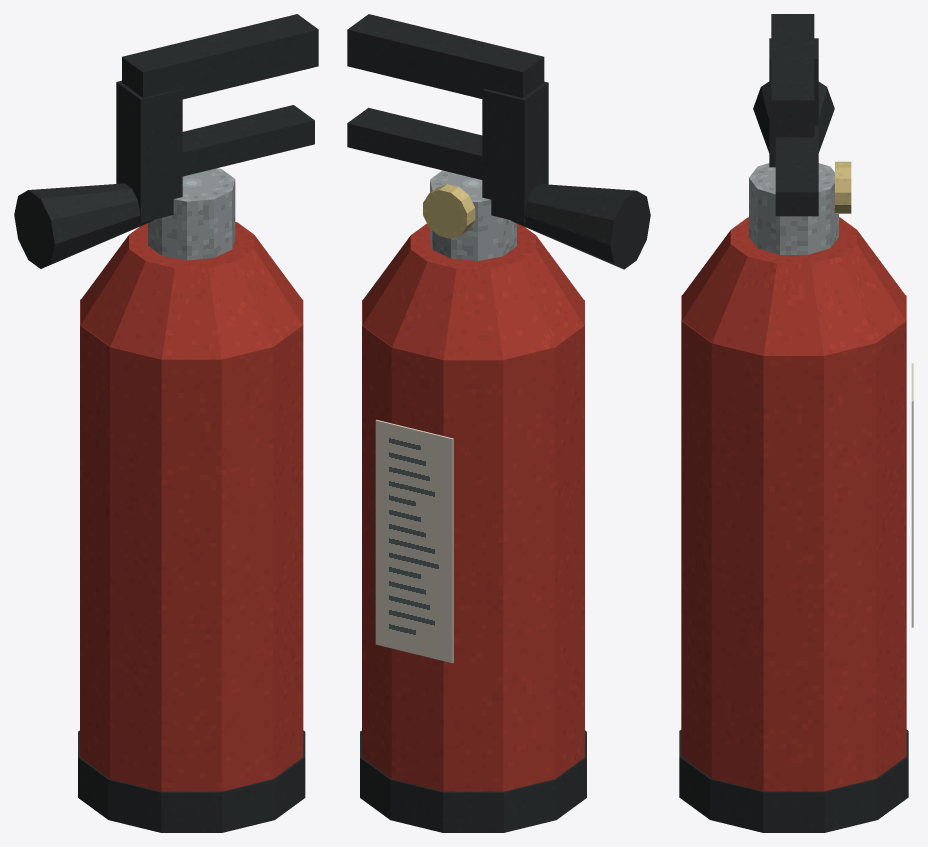
Rendered from sm_extinguisher.glb.
3 views of the same model, side by side, from view 1: azimuth 30°, elevation 25°; view 2: azimuth 150°, elevation 25°; view 3: azimuth 270°, elevation 25° (orthographic).
Parts seen in each view (by area): view 1: block_cylinder, block_shoulder, block_upper lever, block_foot ring, block_short horn, block_lever pivot, block_squeeze grip, block_valve; view 2: block_cylinder, block_shoulder, block_white instruction label, block_upper lever, block_foot ring, block_short horn, block_squeeze grip, block_lever pivot, block_valve, block_pressure dial; view 3: block_cylinder, block_shoulder, block_foot ring, block_upper lever, block_valve, block_squeeze grip, block_short horn, block_lever pivot, block_pressure dial, block_white instruction label.
Boxes of the visible parts, bbox=[...] form: block_cylinder: bbox=[80, 299, 303, 791]; block_shoulder: bbox=[80, 222, 302, 359]; block_upper lever: bbox=[122, 14, 318, 99]; block_foot ring: bbox=[78, 730, 305, 832]; block_short horn: bbox=[14, 183, 154, 268]; block_lever pivot: bbox=[116, 80, 182, 222]; block_squeeze grip: bbox=[116, 105, 314, 187]; block_valve: bbox=[148, 168, 235, 260]; block_cylinder: bbox=[362, 300, 584, 791]; block_shoulder: bbox=[362, 223, 584, 359]; block_white instruction label: bbox=[375, 419, 453, 663]; block_upper lever: bbox=[347, 14, 544, 98]; block_foot ring: bbox=[360, 730, 586, 832]; block_short horn: bbox=[510, 184, 650, 269]; block_squeeze grip: bbox=[347, 107, 545, 190]; block_lever pivot: bbox=[482, 81, 548, 223]; block_valve: bbox=[430, 170, 516, 260]; block_pressure dial: bbox=[423, 184, 475, 238]; block_cylinder: bbox=[681, 295, 906, 791]; block_shoulder: bbox=[682, 217, 905, 355]; block_foot ring: bbox=[679, 730, 908, 832]; block_upper lever: bbox=[771, 14, 814, 137]; block_valve: bbox=[749, 163, 838, 254]; block_squeeze grip: bbox=[775, 125, 818, 216]; block_short horn: bbox=[753, 81, 834, 152]; block_lever pivot: bbox=[769, 38, 818, 167]; block_pressure dial: bbox=[835, 161, 851, 213]; block_white instruction label: bbox=[911, 363, 913, 627].
Size of the model in its own units: 0.1555 by 0.4 by 0.1145.
1 material, 1 textured.
